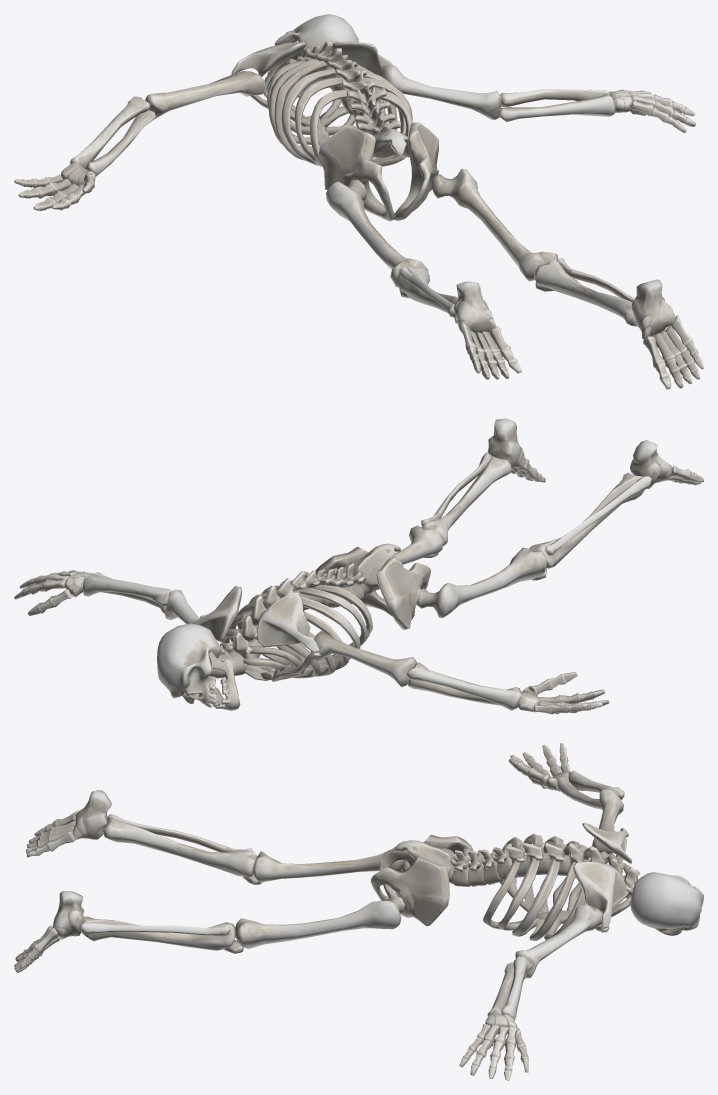
3 views of the same model, one above another, from view 1: azimuth 30°, elevation 25°; view 2: azimuth 150°, elevation 25°; view 3: azimuth 270°, elevation 25° (orthographic). The views are drawn at different scales.
Visible parts, largest first — view 1: SM_FullBody_05_LOD0; view 2: SM_FullBody_05_LOD0; view 3: SM_FullBody_05_LOD0.
Boxes of the visible parts, x1,y1,x2,y2 form: SM_FullBody_05_LOD0: [14, 14, 703, 389]; SM_FullBody_05_LOD0: [14, 418, 703, 714]; SM_FullBody_05_LOD0: [14, 743, 703, 1080].
Bounding box in the file's own units: 1.84 × 0.3515 × 1.89.
1 material, 1 textured.
